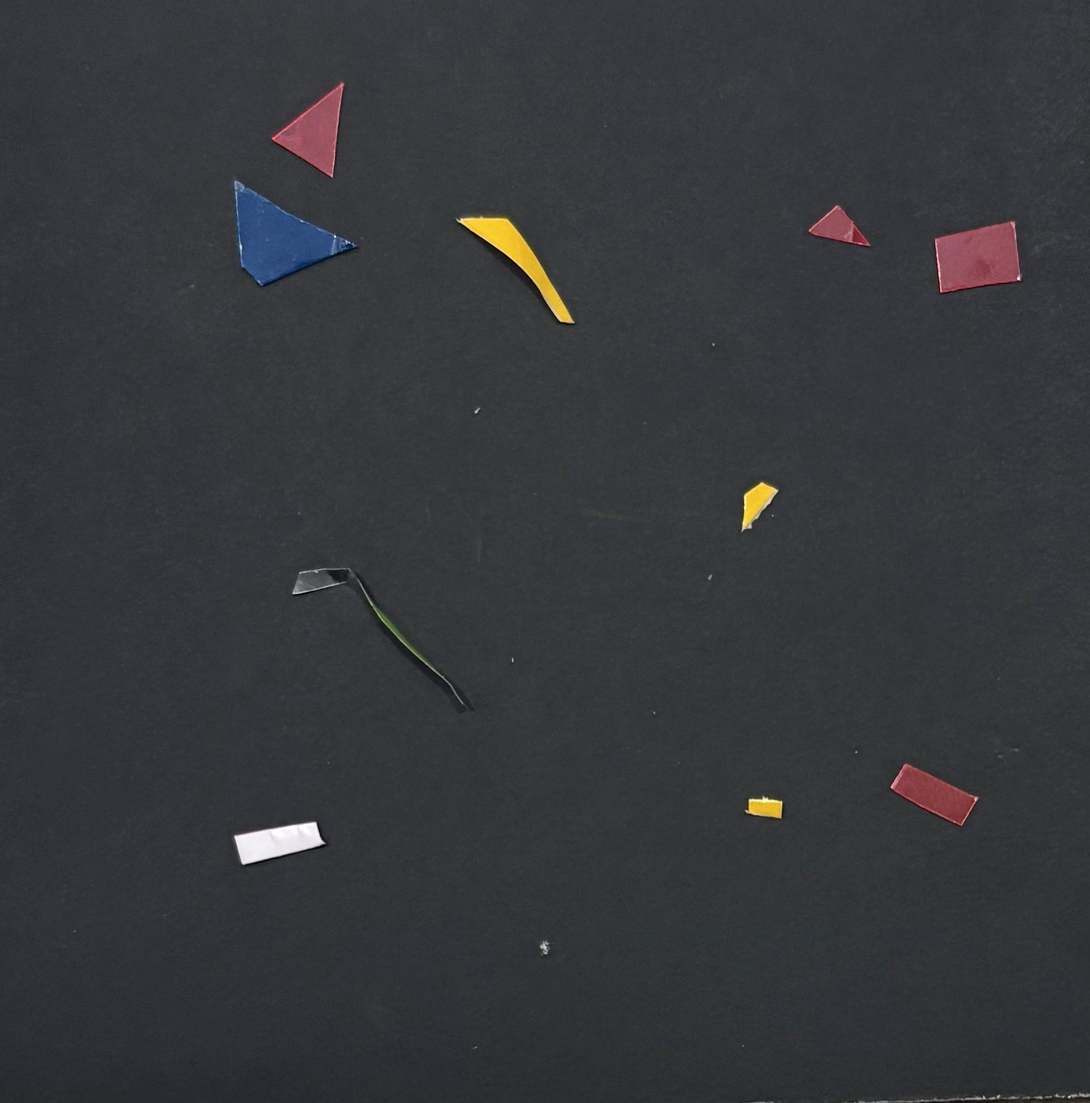Microplastic Particle: (287, 549, 486, 721), (443, 197, 591, 334), (213, 156, 365, 286), (204, 790, 373, 888), (263, 48, 371, 195), (871, 738, 1001, 836), (929, 226, 1034, 311), (792, 178, 881, 260), (738, 467, 793, 547), (738, 779, 808, 827)
